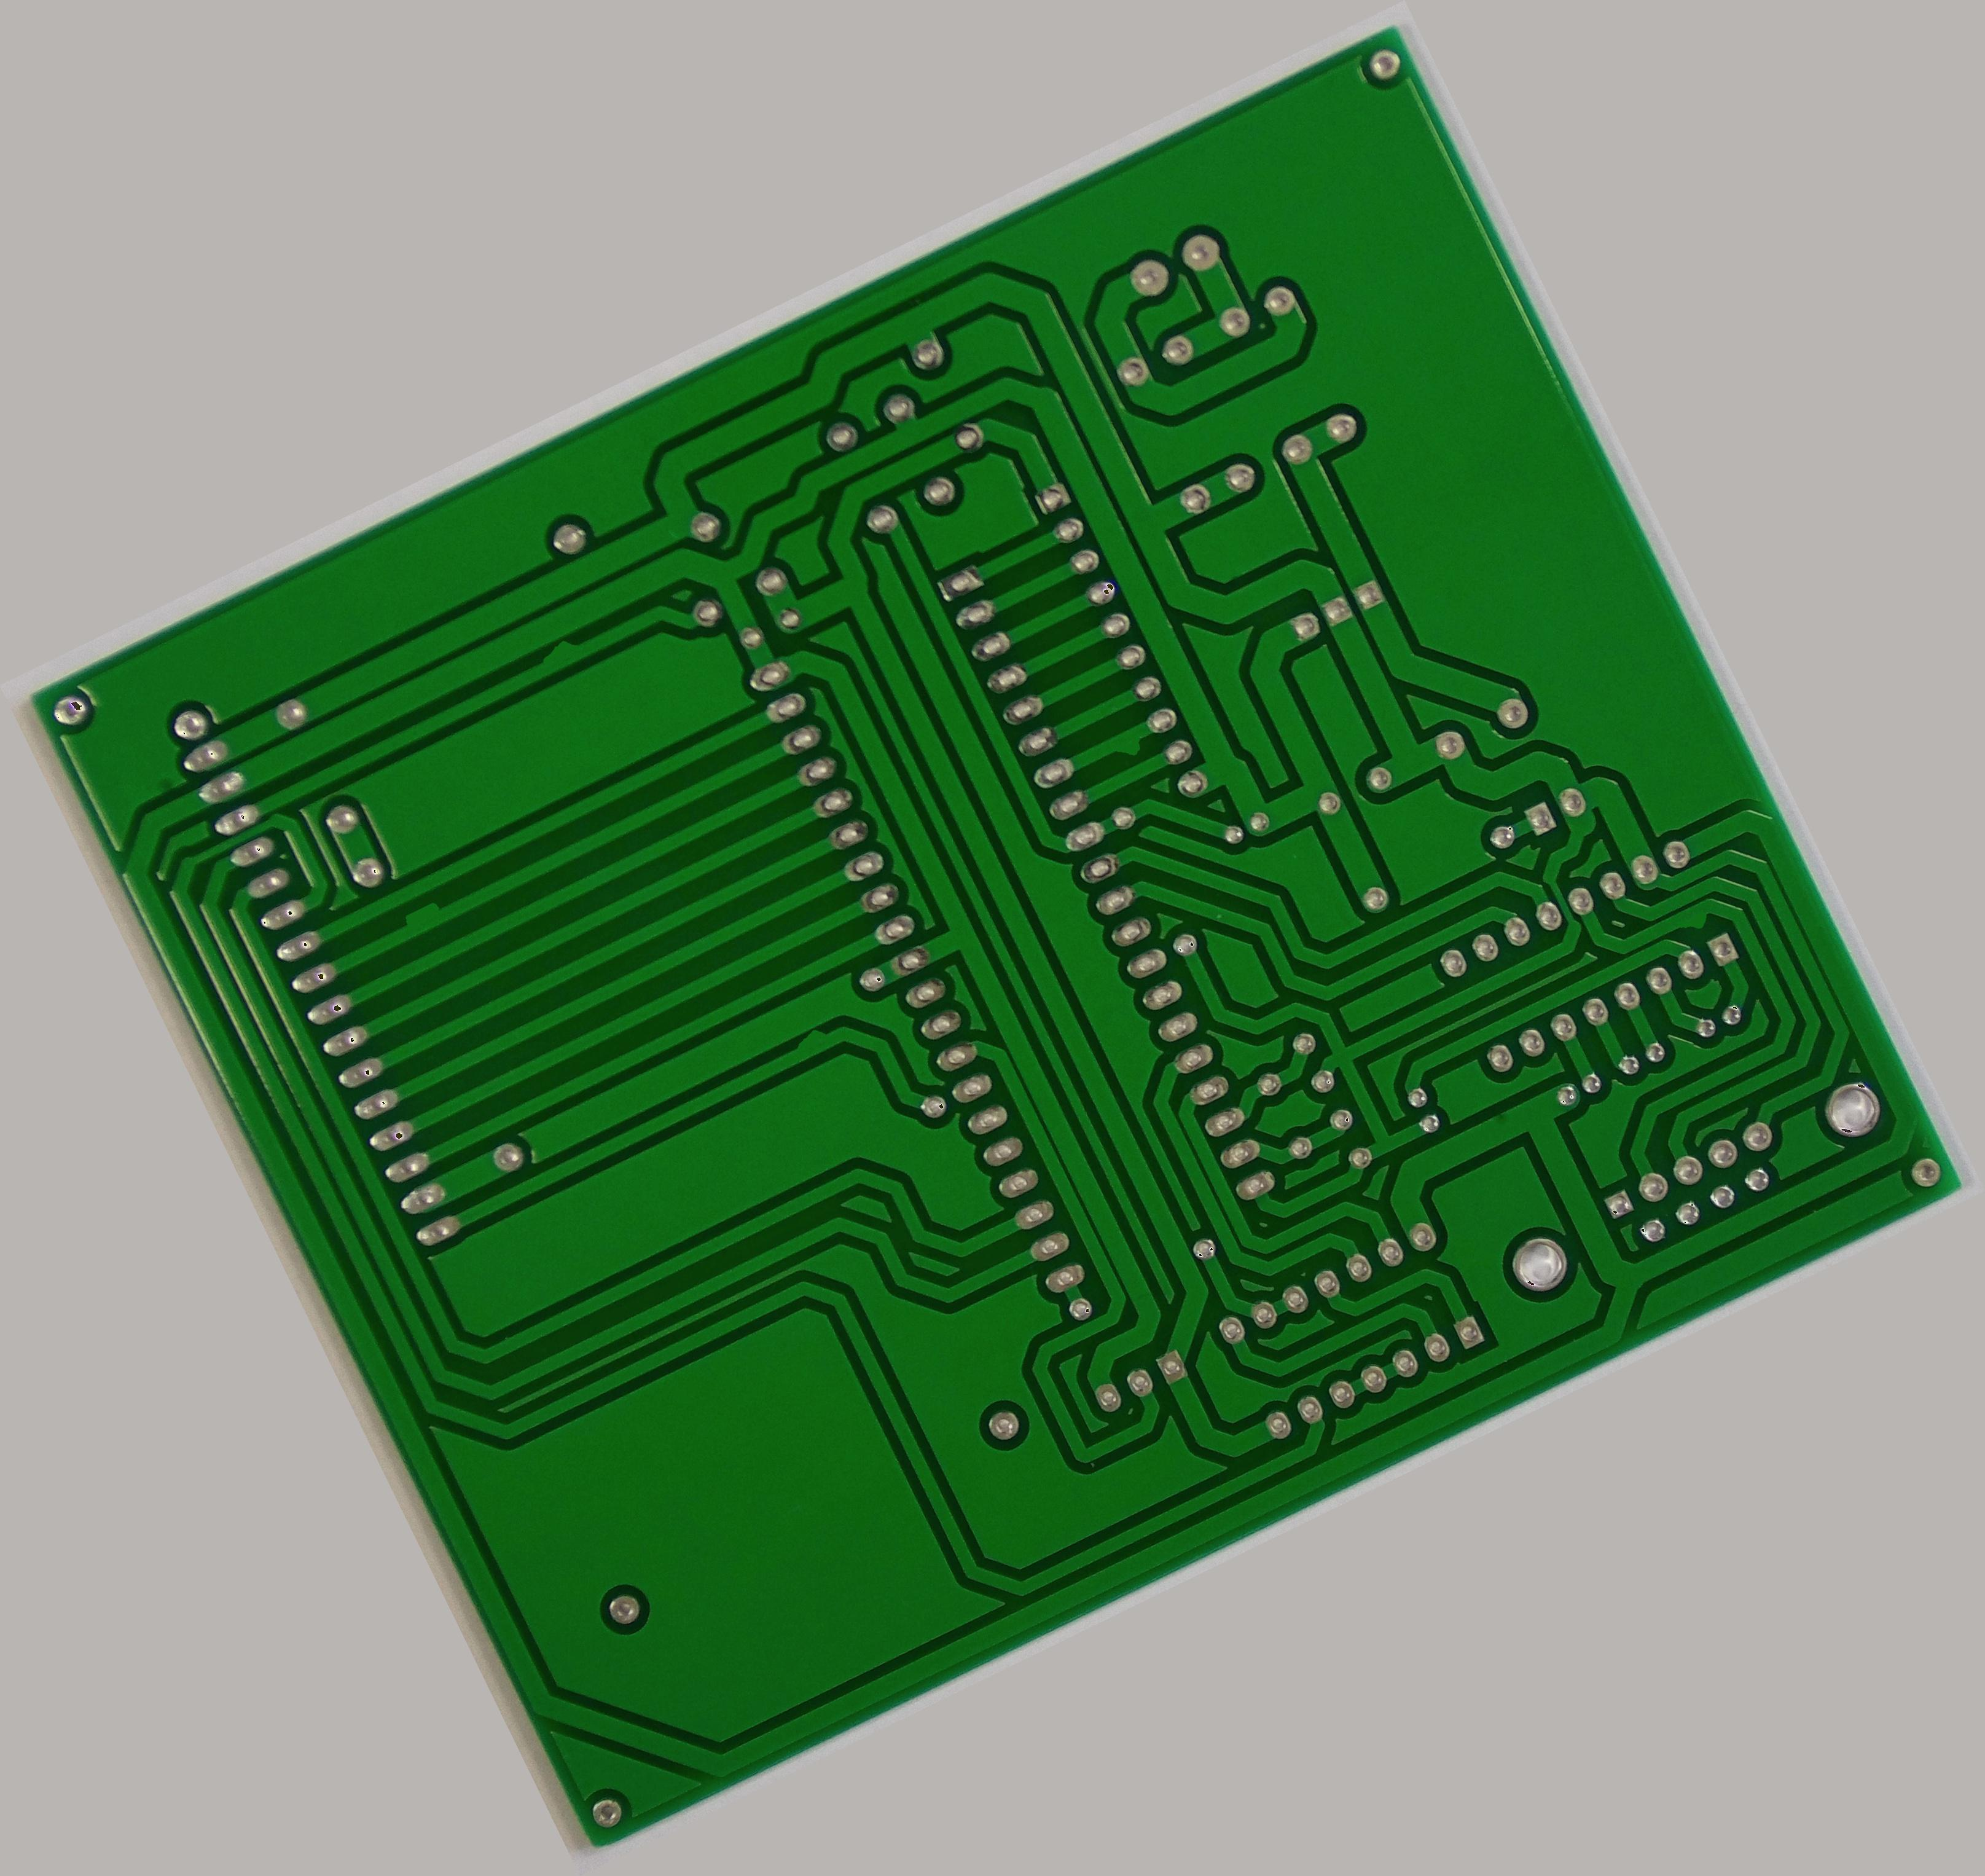spur: (386, 889, 457, 945), (1095, 718, 1155, 774), (781, 1014, 841, 1068), (1662, 894, 1719, 945), (531, 629, 589, 679)
